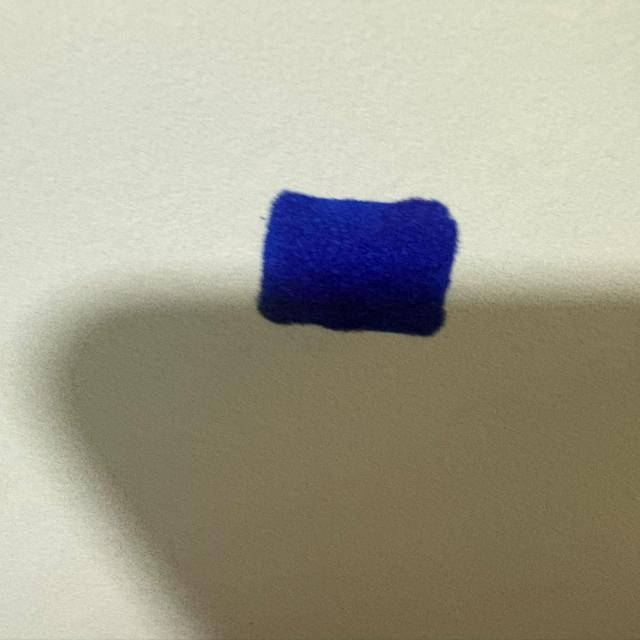Square: (255, 190, 459, 337)
